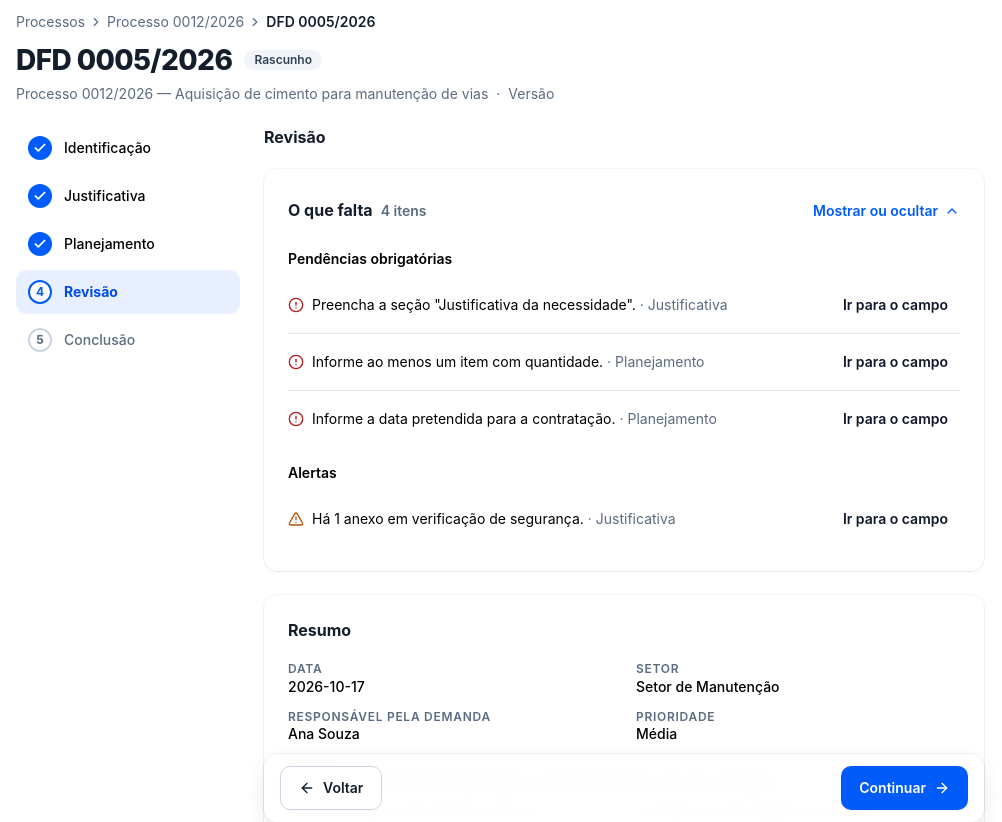
Test: SCR-007 — DFD em wizard (US-014) › Revisão: pendências obrigatórias por passo; "Ir para o campo" abre o Planejamento com foco nos itens; Conclusão "Há 3 pendências obrigatórias"
This screenshot has width=1002, height=822.
Expected: the text "Informe ao menos um item com quantidade." is shown, [312,353,603,370]
Expected: the text "Há 1 anexo em verificação de segurança." is shown, [312,510,584,527]
Click the button with aria-label "Ir para o campo no passo Planejamento": (895,362) [831,344,960,380]
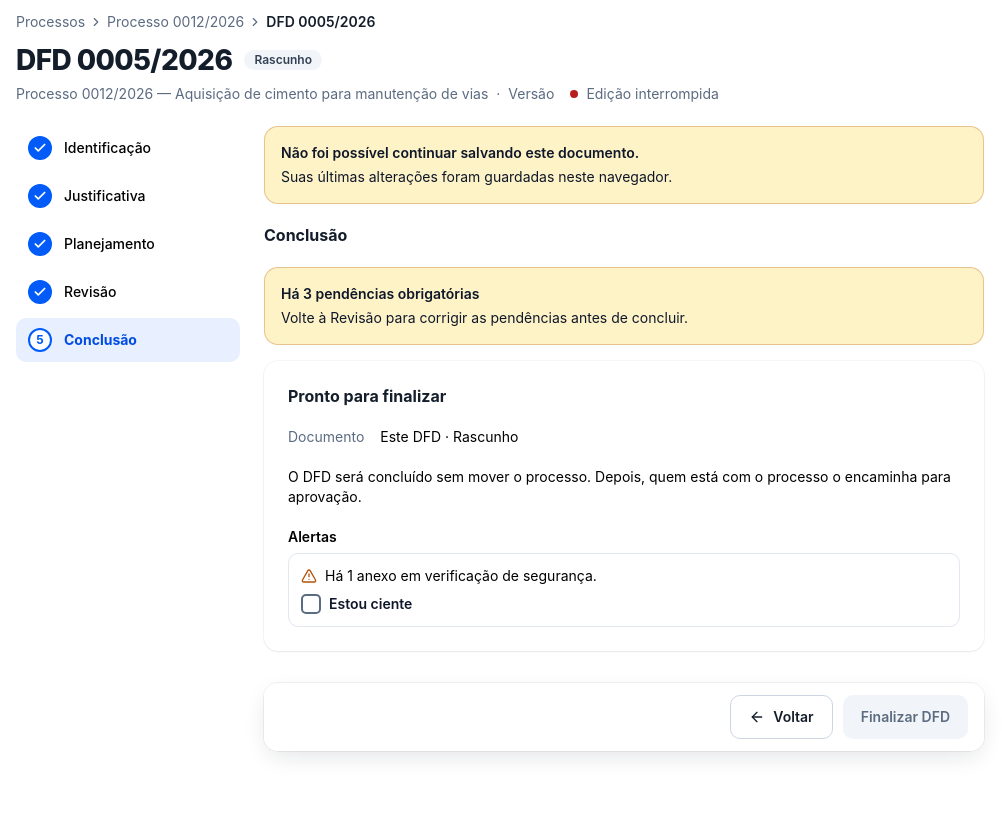
Expected: the text "Há 3 pendências obrigatórias" is shown, [281,285,479,302]
